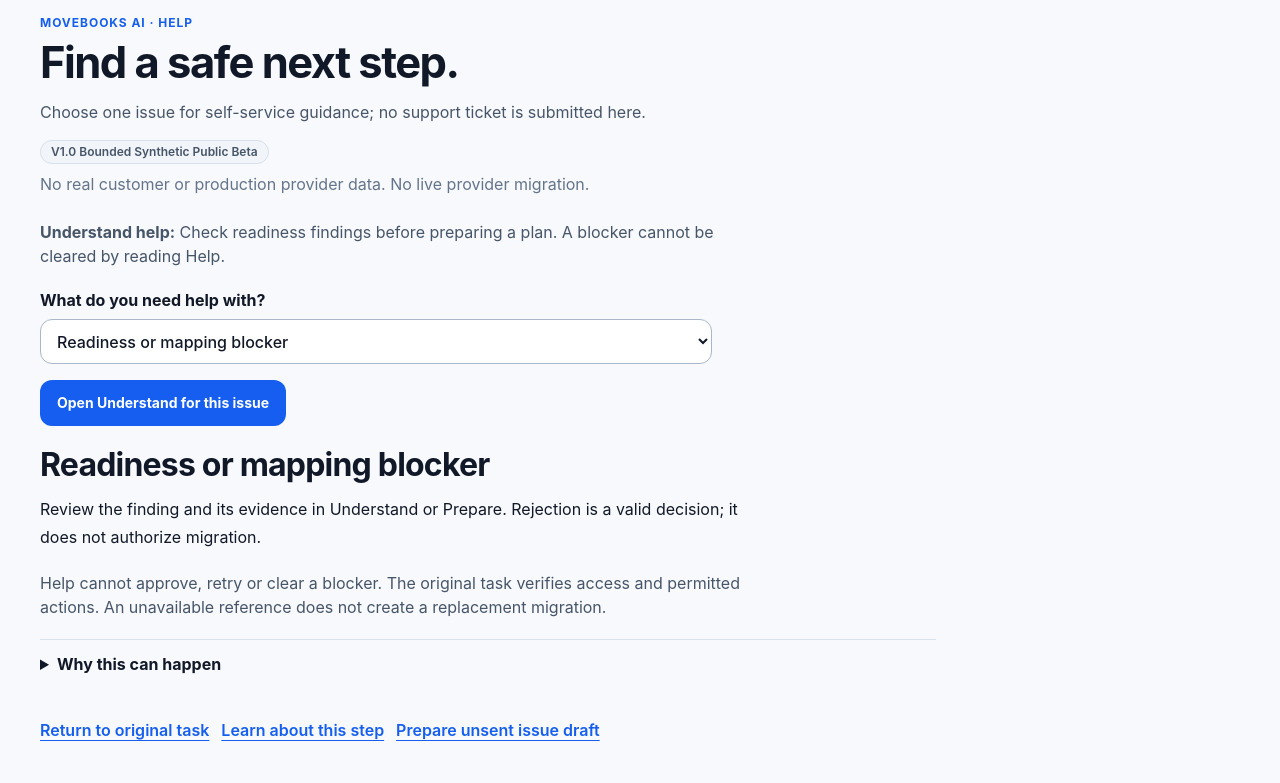
phase Help with navigation-only context › preserves phase 0 through issue and learning detours
This screenshot has width=1280, height=783.
Select "Approval required" in the dropdown labelled "What do you need help with?" at x=376, y=342, box [40, 319, 712, 364]
(page scrolled)
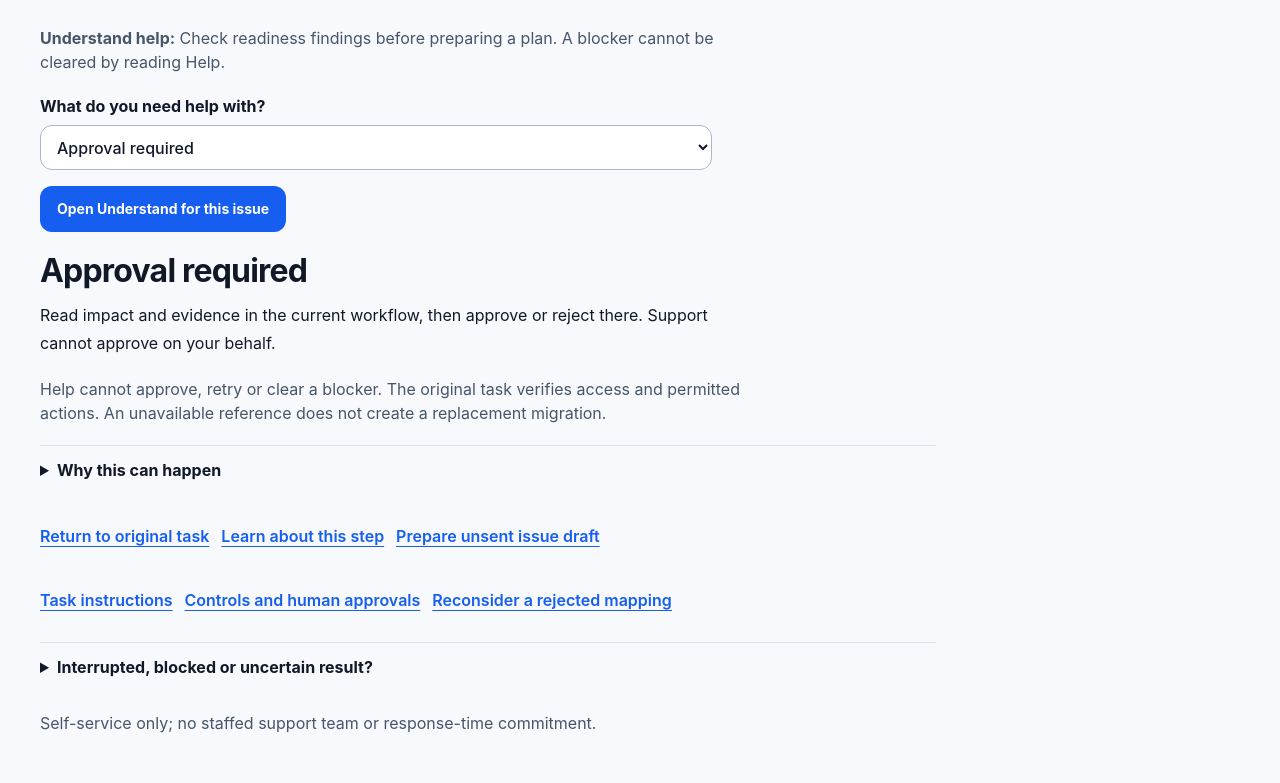
Click the heading "Interrupted, blocked or uncertain result?" at x=215, y=667, box [57, 657, 373, 677]
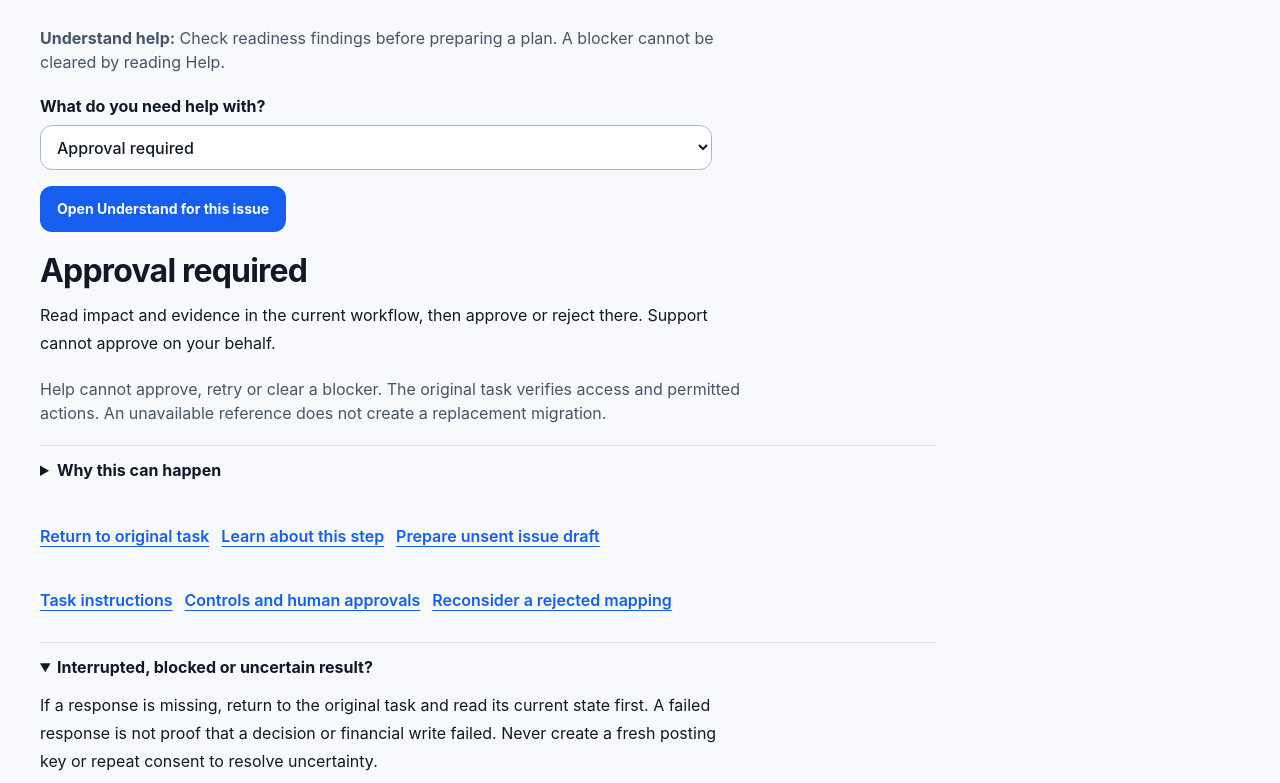
Check: the text "read its current state first" is shown, box [40, 695, 716, 771]
